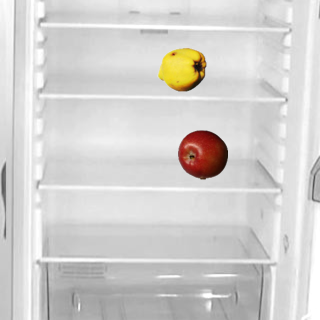Apple Braeburn: (177, 129, 227, 179)
Quince: (156, 44, 206, 94)
